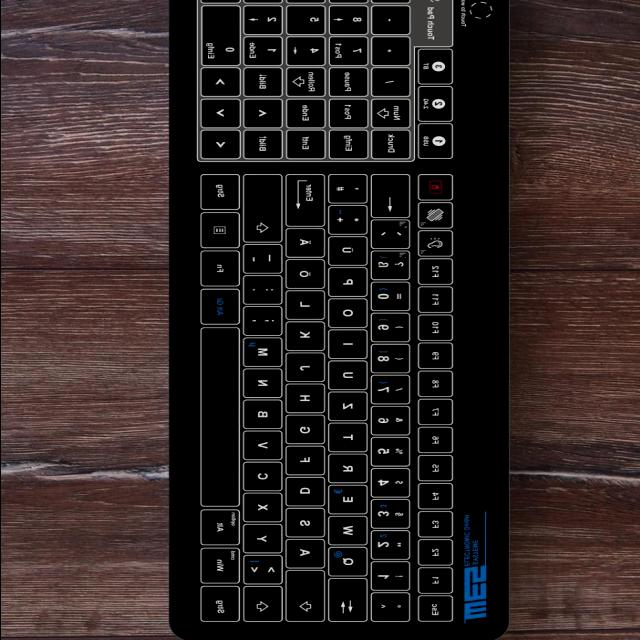0: (373, 284, 415, 314)
1: (373, 564, 415, 594)
2: (373, 531, 415, 563)
3: (373, 501, 415, 533)
4: (373, 470, 415, 500)
5: (373, 439, 415, 469)
6: (373, 407, 415, 439)
7: (373, 377, 415, 407)
8: (372, 345, 414, 377)
9: (373, 315, 415, 345)
a: (288, 541, 329, 571)
accent: (373, 221, 415, 251)
ae: (288, 231, 330, 261)
alt-left: (203, 511, 245, 550)
altgr-right: (203, 290, 245, 329)
b: (245, 401, 287, 433)
c: (245, 465, 287, 495)
caret: (373, 595, 415, 625)
comma: (246, 309, 287, 339)
d: (288, 479, 329, 509)
del: (374, 176, 415, 220)
e: (330, 487, 372, 517)
enter: (288, 176, 330, 229)
f: (288, 448, 330, 478)
g: (288, 417, 329, 447)
h: (288, 386, 330, 416)
hash: (330, 176, 373, 206)
i: (331, 332, 372, 362)
j: (288, 355, 330, 385)
k: (288, 324, 330, 354)
keyboard: (164, 0, 516, 640)
l: (288, 293, 330, 323)
less: (245, 557, 287, 587)
m: (245, 339, 287, 371)
minus: (246, 247, 287, 277)
n: (245, 370, 287, 402)
o: (330, 301, 372, 331)
oe: (287, 262, 329, 292)
p: (331, 270, 372, 300)
plus: (331, 207, 373, 237)
point: (246, 278, 286, 308)
q: (330, 549, 372, 581)
r: (330, 456, 372, 486)
s: (288, 511, 329, 541)
shift-left: (245, 588, 287, 626)
shift-lock: (288, 573, 329, 626)
shift-right: (246, 176, 287, 245)
space: (203, 329, 245, 511)
ss: (373, 253, 414, 283)
strg-left: (202, 587, 245, 627)
strg-right: (203, 175, 245, 214)
t: (331, 425, 372, 455)
tab: (330, 580, 372, 626)
u: (330, 363, 372, 393)
ue: (330, 239, 372, 269)
v: (245, 432, 287, 464)
w: (330, 518, 373, 548)
x: (245, 495, 287, 525)
y: (245, 526, 287, 556)
z: (330, 394, 372, 424)
